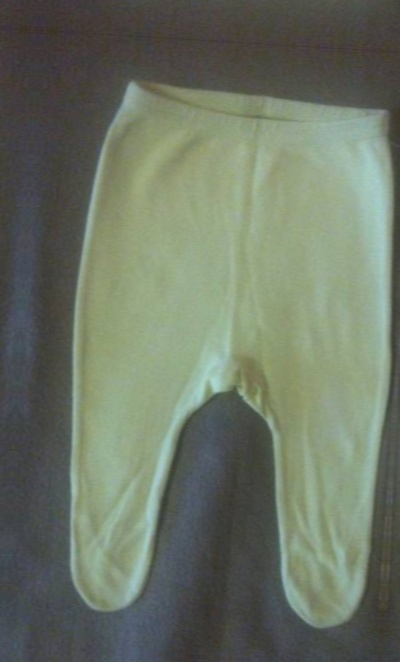Pants: (50, 72, 400, 638), (383, 92, 400, 658), (87, 0, 400, 14)
